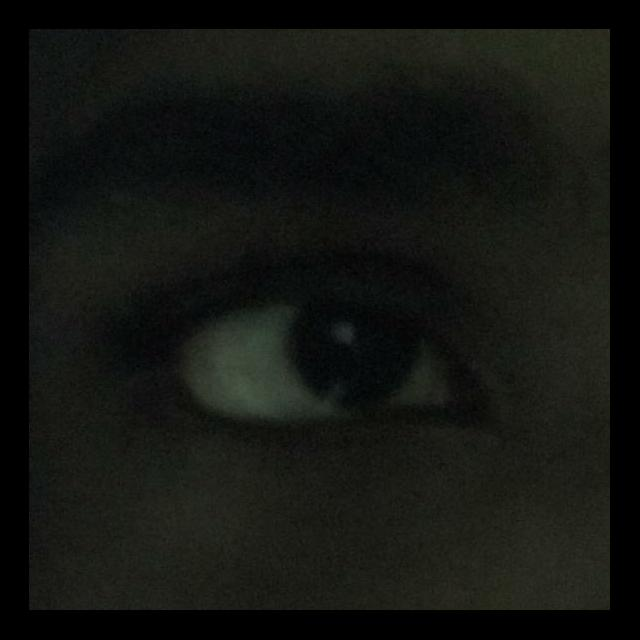eye: (173, 300, 450, 423)
iris: (288, 304, 420, 407)
